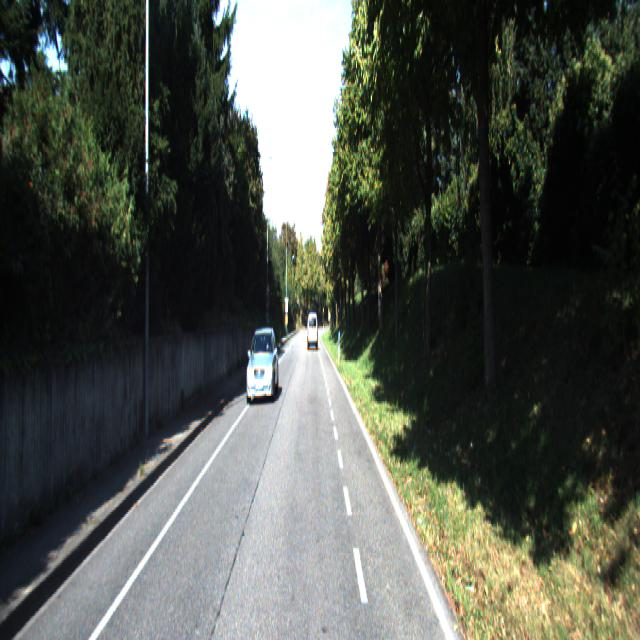Car: (245, 326, 280, 406), (307, 311, 319, 351)
